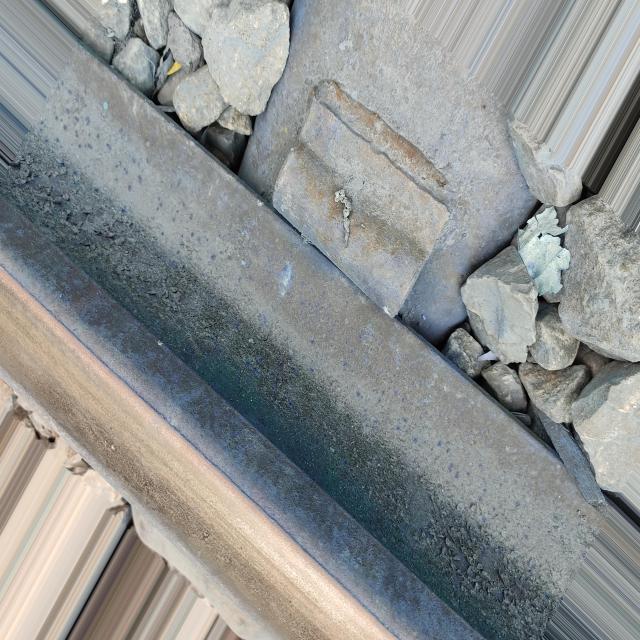Missing Fastener: (246, 28, 491, 365)
